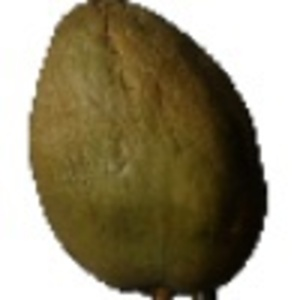mamão: (25, 2, 276, 293)
